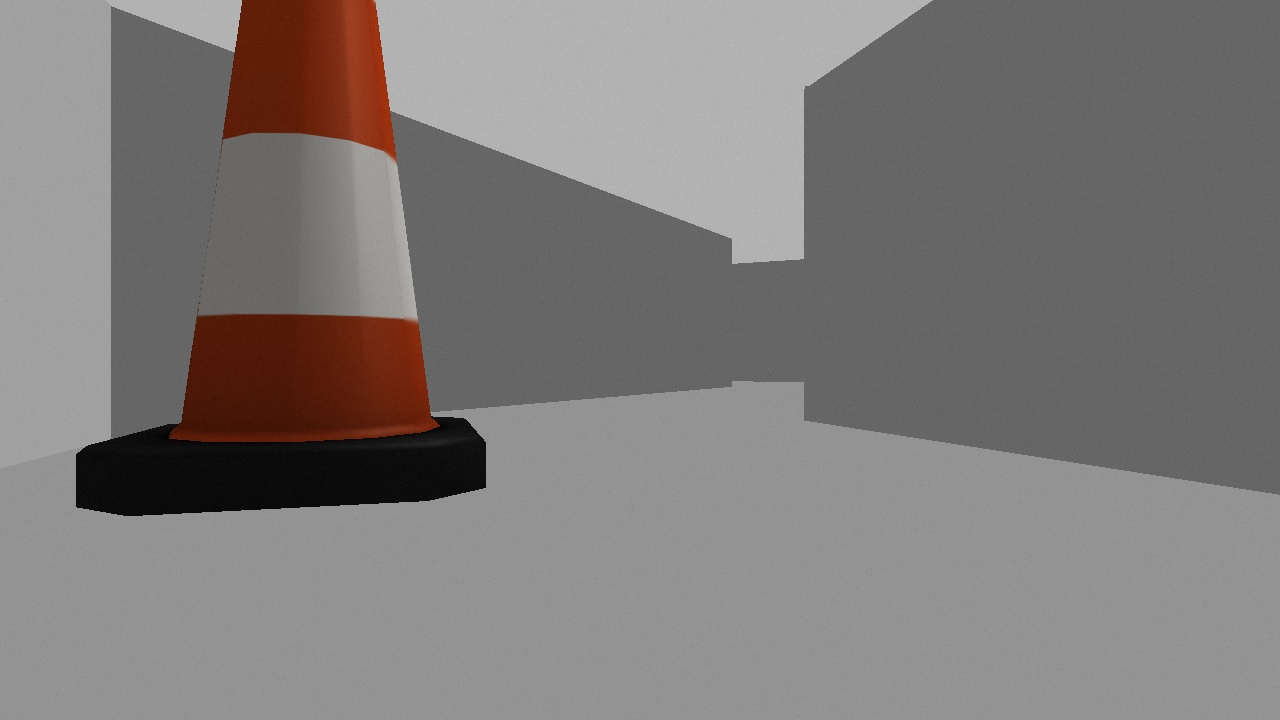barricade: (74, 1, 487, 516)
